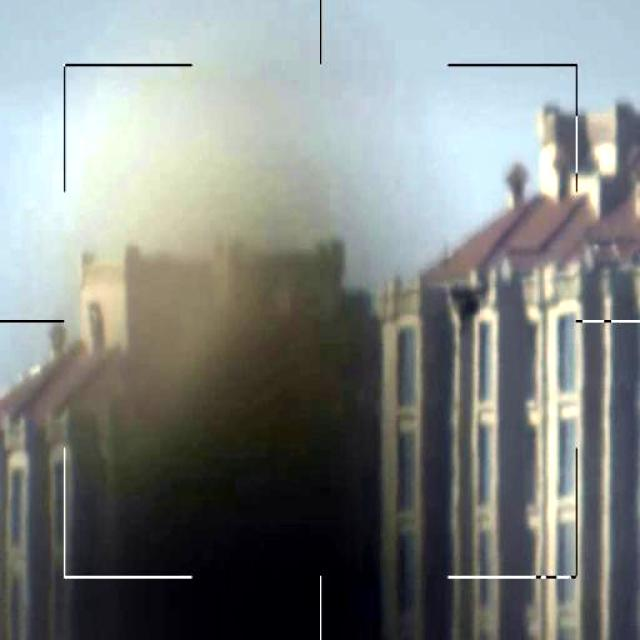bird: (442, 266, 490, 339)
